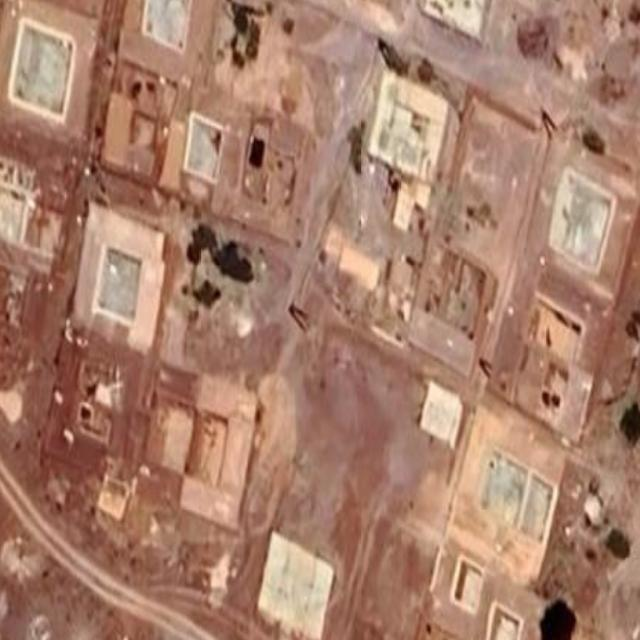Countryside roofs: (175, 374, 271, 536), (369, 56, 454, 199), (477, 442, 558, 562), (8, 17, 91, 122), (546, 161, 614, 278), (270, 531, 336, 640), (87, 233, 149, 342), (426, 386, 473, 460), (177, 120, 226, 189)
